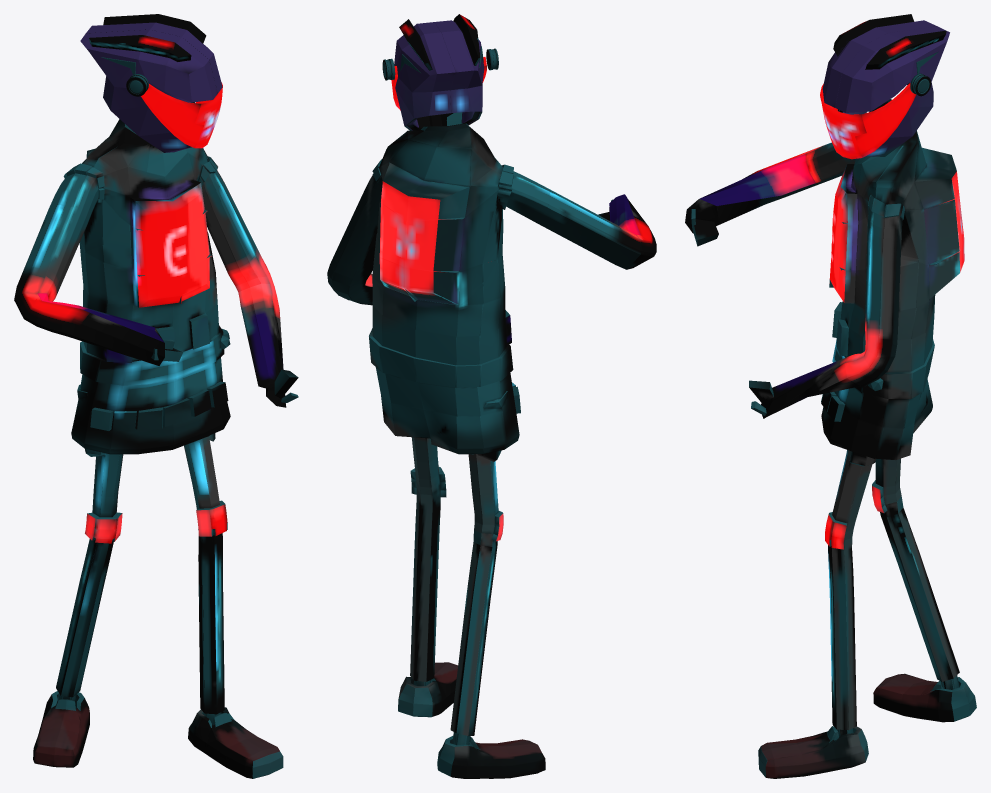
The model's file is ELITE SODLIER.fbx.
The picture shows the model from 3 angles, left to right: view 1: azimuth 30°, elevation 25°; view 2: azimuth 150°, elevation 25°; view 3: azimuth 270°, elevation 25°; orthographic projection.
Parts seen in each view (by area): view 1: Icosphere.001; view 2: Icosphere.001; view 3: Icosphere.001.
Part boxes in pixels (x1=…): Icosphere.001: x1=14, y1=14, x2=298, y2=778; Icosphere.001: x1=327, y1=14, x2=656, y2=778; Icosphere.001: x1=685, y1=14, x2=976, y2=778.
Size of what is drawn, in the model's own units: 79.6 by 191 by 70.48.
